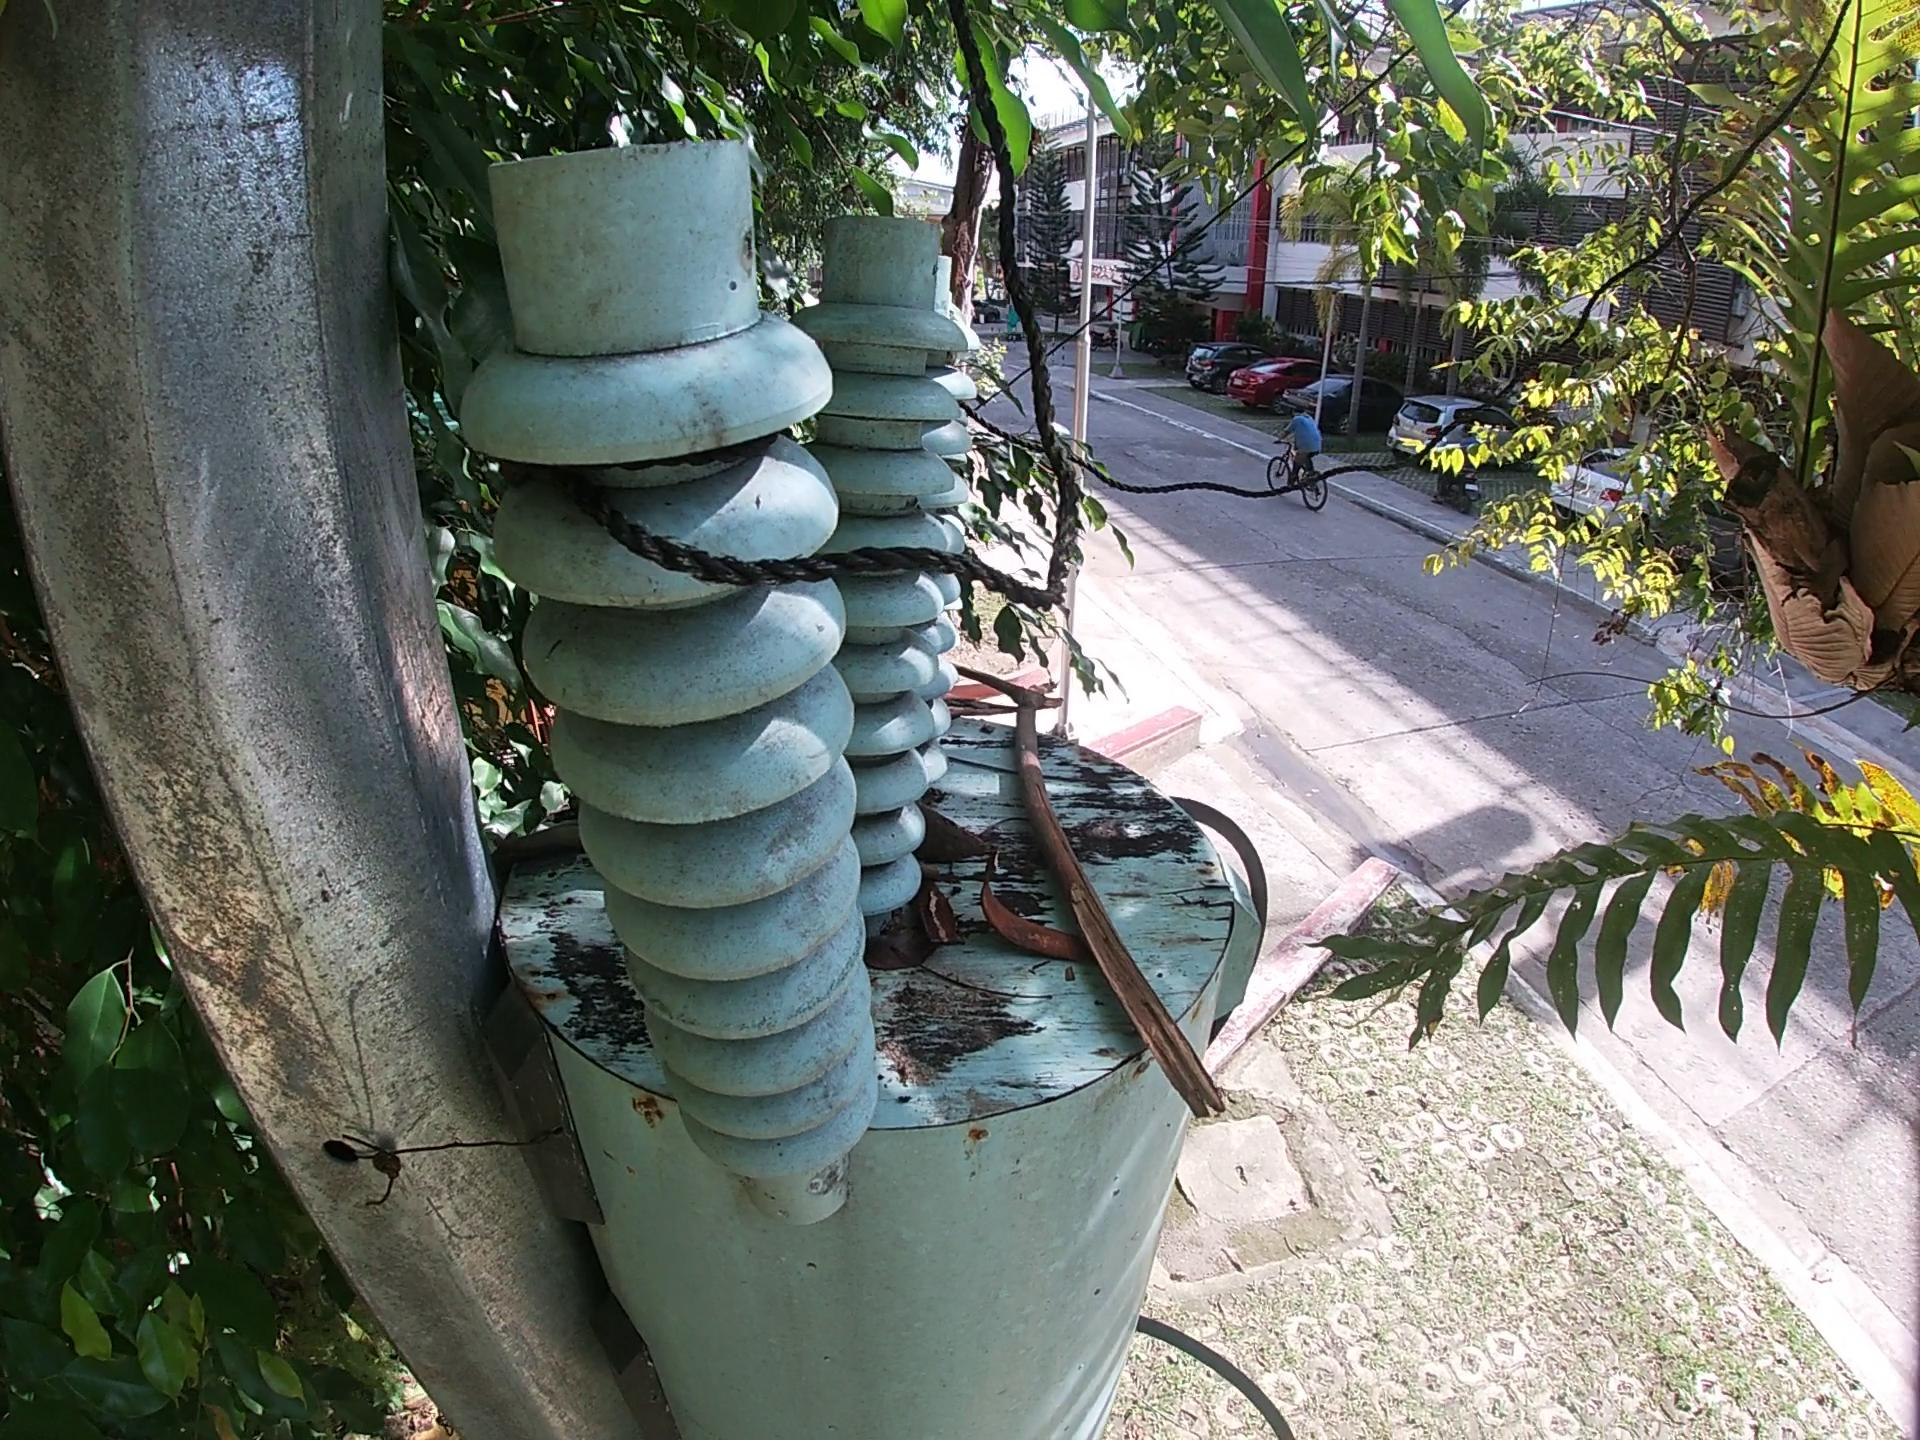mahogany fruit: (983, 850, 1092, 977), (921, 815, 1004, 871)
tree branch: (942, 658, 1259, 1130), (942, 755, 1120, 806), (928, 971, 1042, 1023), (918, 879, 971, 961), (946, 691, 1008, 725), (915, 861, 942, 877)
